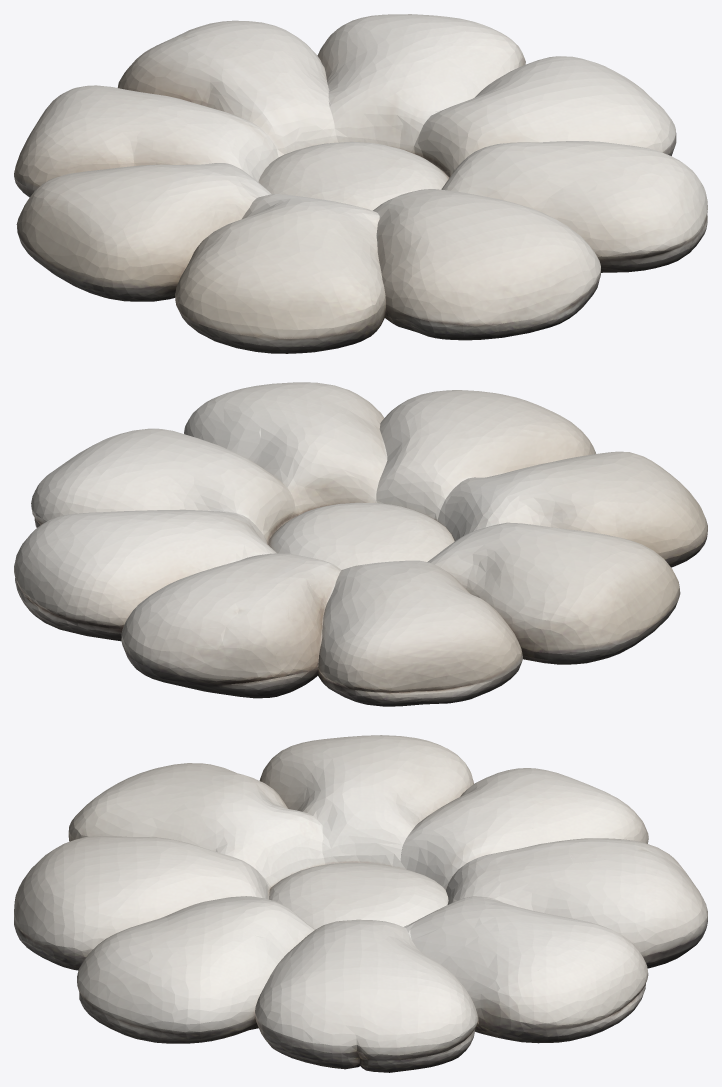
The picture shows the model from 3 angles, top to bottom: view 1: azimuth 30°, elevation 25°; view 2: azimuth 150°, elevation 25°; view 3: azimuth 270°, elevation 25°; orthographic projection. The views are drawn at different scales.
Visible parts, largest first — view 1: world; view 2: world; view 3: world.
Part boxes in pixels (x1=…): world: x1=14, y1=14, x2=707, y2=353; world: x1=14, y1=382, x2=707, y2=706; world: x1=14, y1=735, x2=707, y2=1072.
Size of the model in its own units: 0.9982 by 0.1265 by 1.
1 material, 1 textured.
